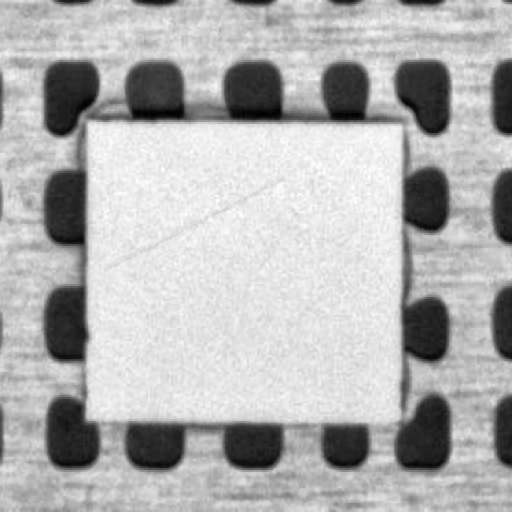DIE_CRACK: (136, 133, 374, 202)
